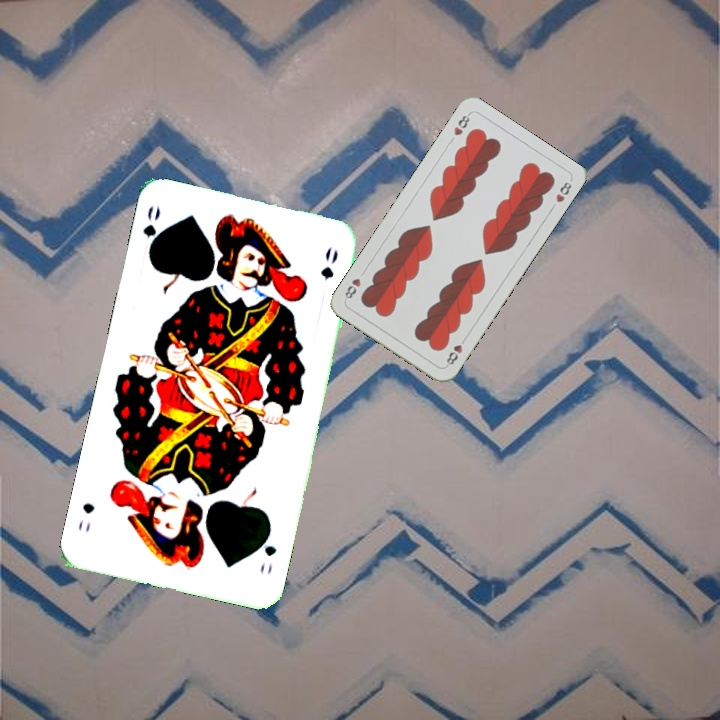GO: (139, 202, 165, 261), (256, 525, 279, 577)
H8: (442, 333, 469, 369), (449, 109, 473, 138)
